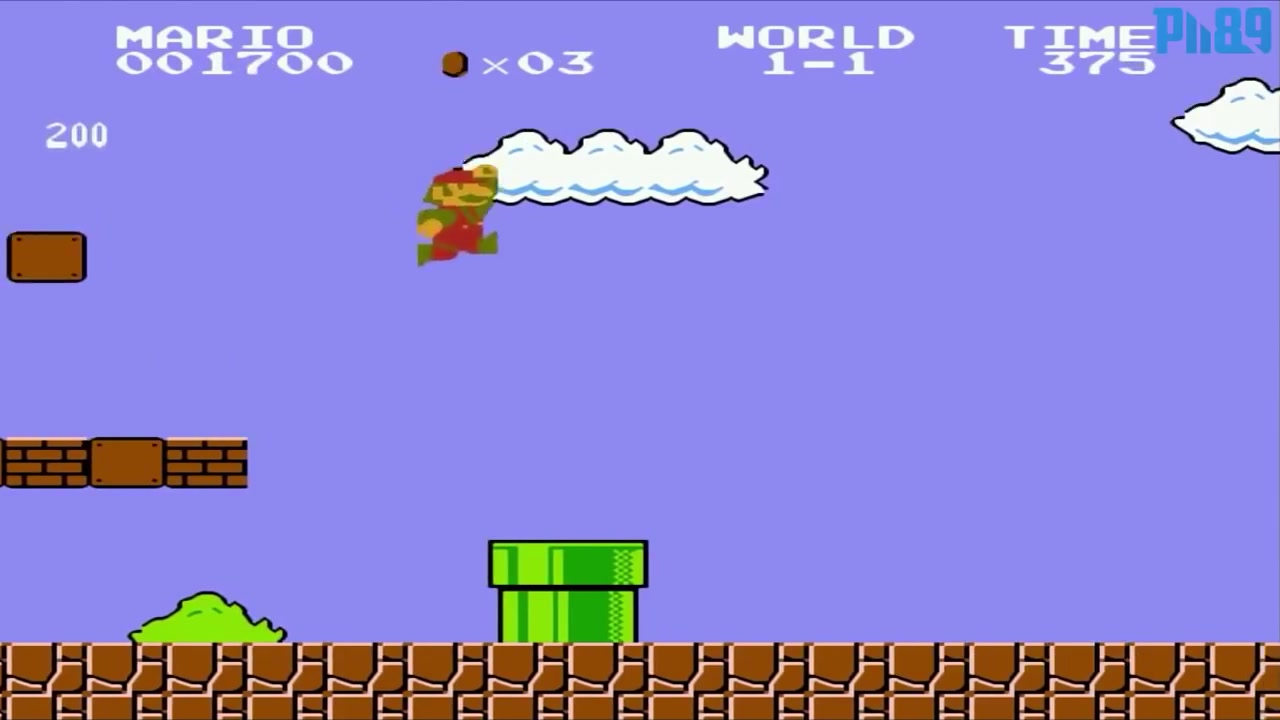mario: (412, 159, 503, 271)
